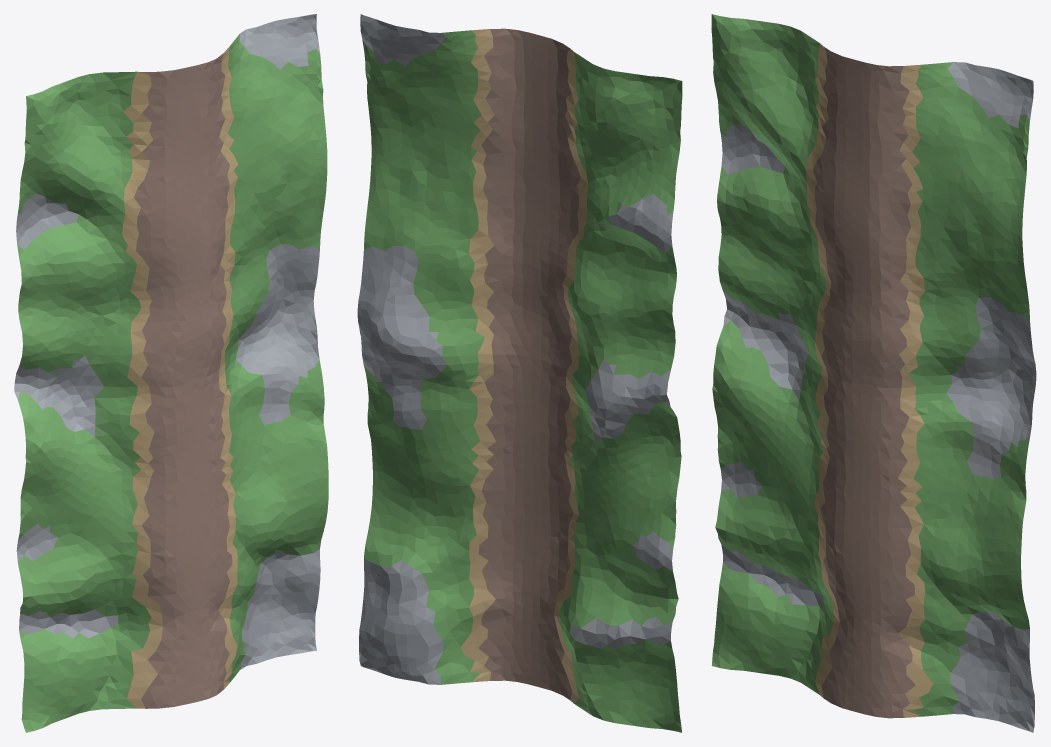
Rendered from River_200m_01_FBX.fbx.
3 renders of one model, left to right at view 1: azimuth 30°, elevation 25°; view 2: azimuth 150°, elevation 25°; view 3: azimuth 330°, elevation 25°, orthographic. The views are drawn at different scales.
Parts seen in each view (by area): view 1: River_200m_01_FBX; view 2: River_200m_01_FBX; view 3: River_200m_01_FBX.
Part boxes in pixels (<box>): River_200m_01_FBX: <box>14,14,328,732</box>; River_200m_01_FBX: <box>357,14,682,732</box>; River_200m_01_FBX: <box>711,14,1036,732</box>.
Size of the model in its own units: 99.93 by 200 by 17.55.
